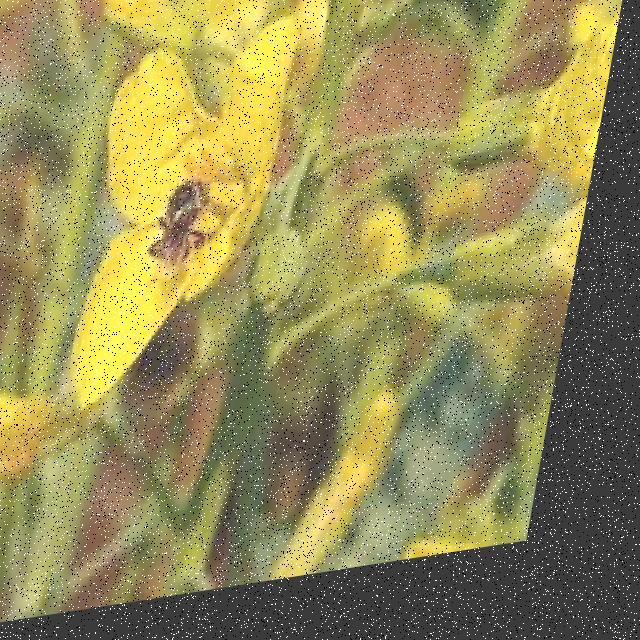Meliponula: (151, 172, 230, 295)
